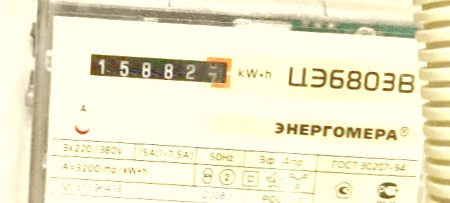1: (95, 56, 107, 75)
2: (183, 61, 196, 79)
5: (116, 58, 130, 76)
7: (205, 69, 217, 83)
8: (139, 59, 152, 77), (162, 61, 173, 78)
screen: (81, 41, 238, 93)
